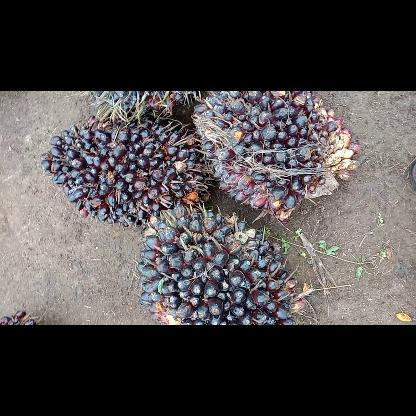TBS mentah: (186, 90, 362, 222), (136, 204, 312, 324), (36, 116, 216, 231)
